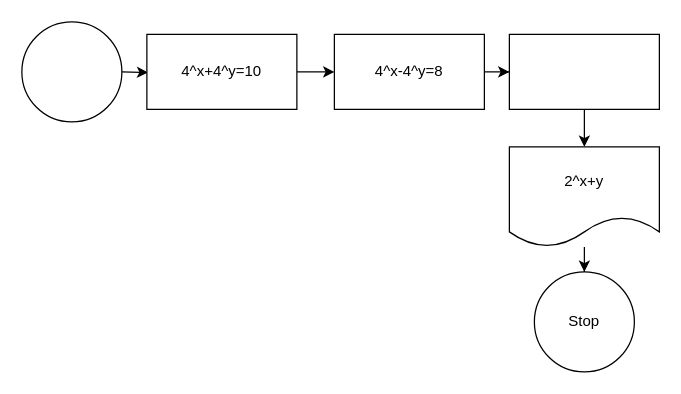
Image size: 681x394. Some labels were removed from this diagram. The shapes that lost their labels are listed below. From the top down, each one's box as (x1, y1, x2, y2) in pixels, then its label:
(21, 21, 122, 122): Start
(508, 33, 659, 109): 4^x=9,y=0
